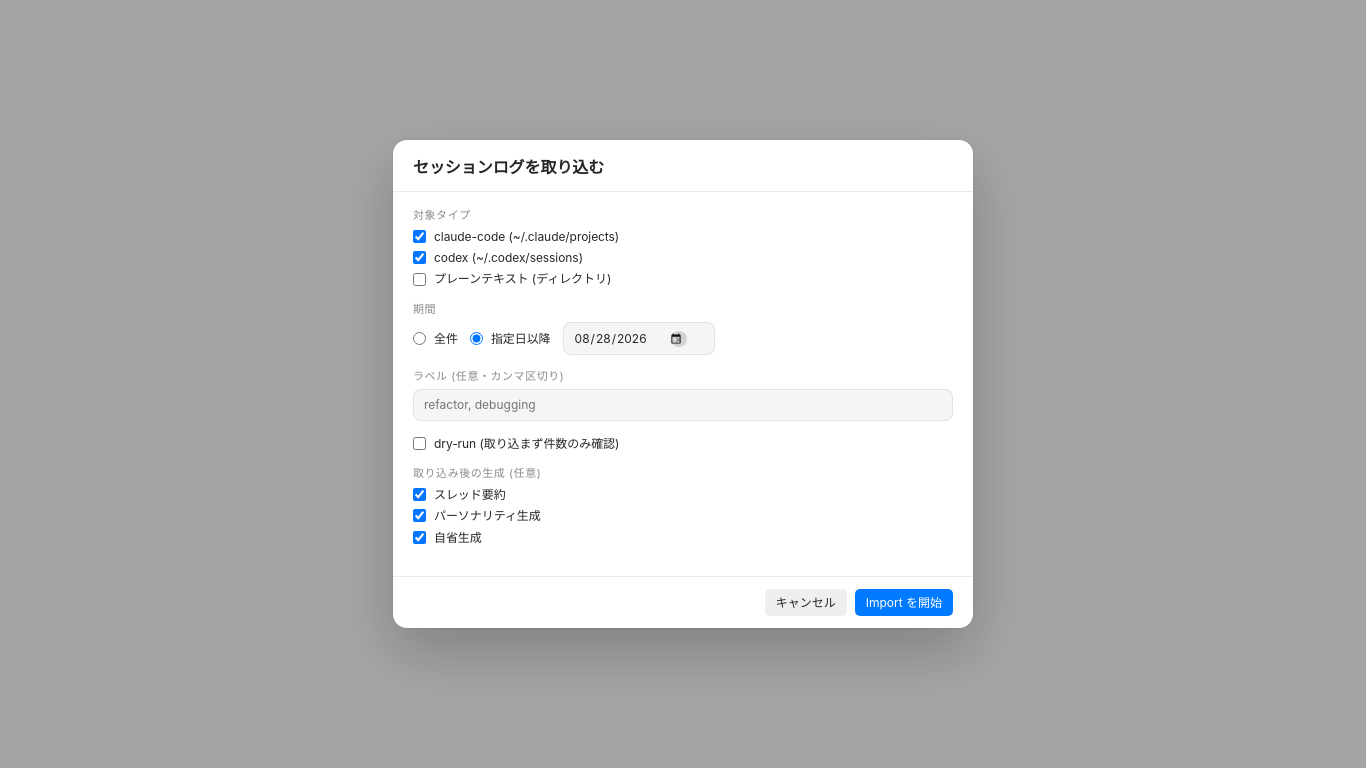
it: ImportDialog plain source › blocks submit with an empty root
Click the checkbox labelled "プレーンテキスト (ディレクトリ)" at (420, 279), box [413,273,426,286]
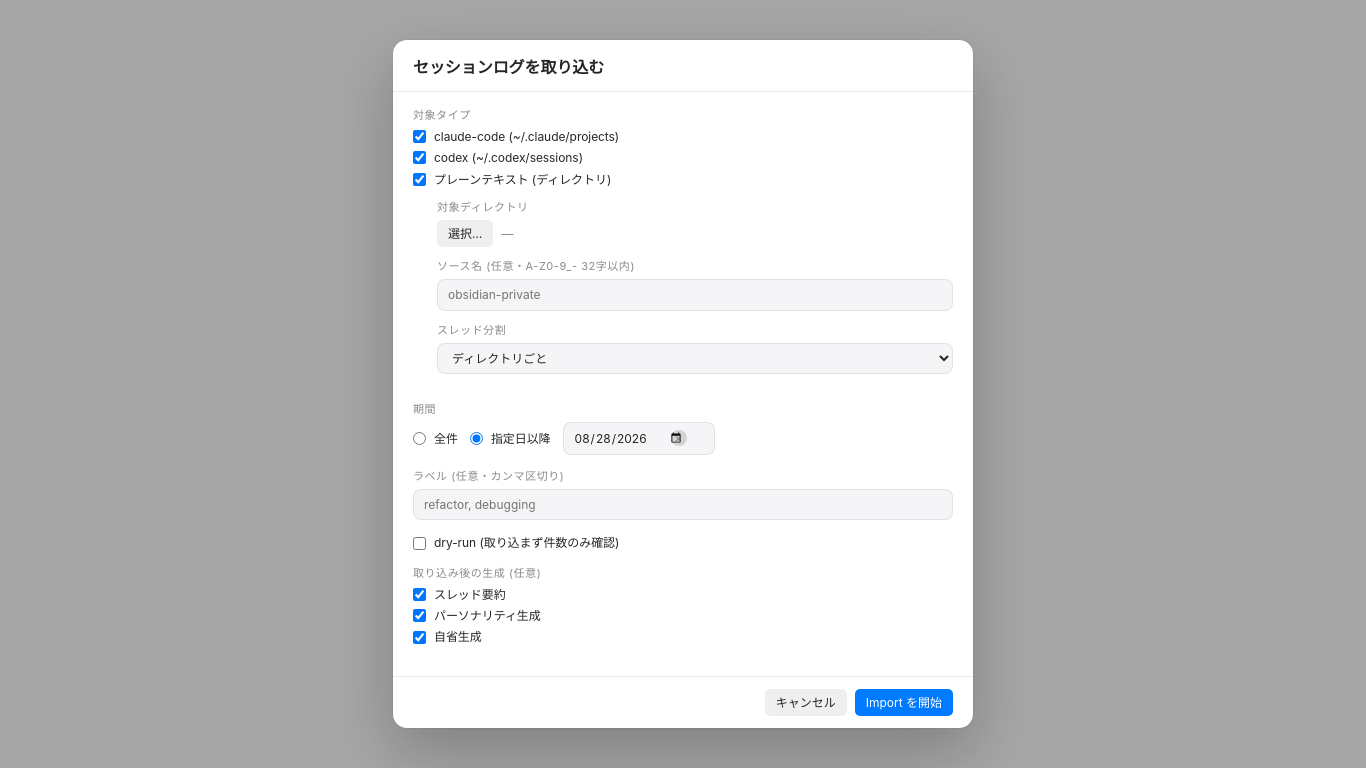
Click the button "Import を開始" at (904, 702), box [855,689,953,716]
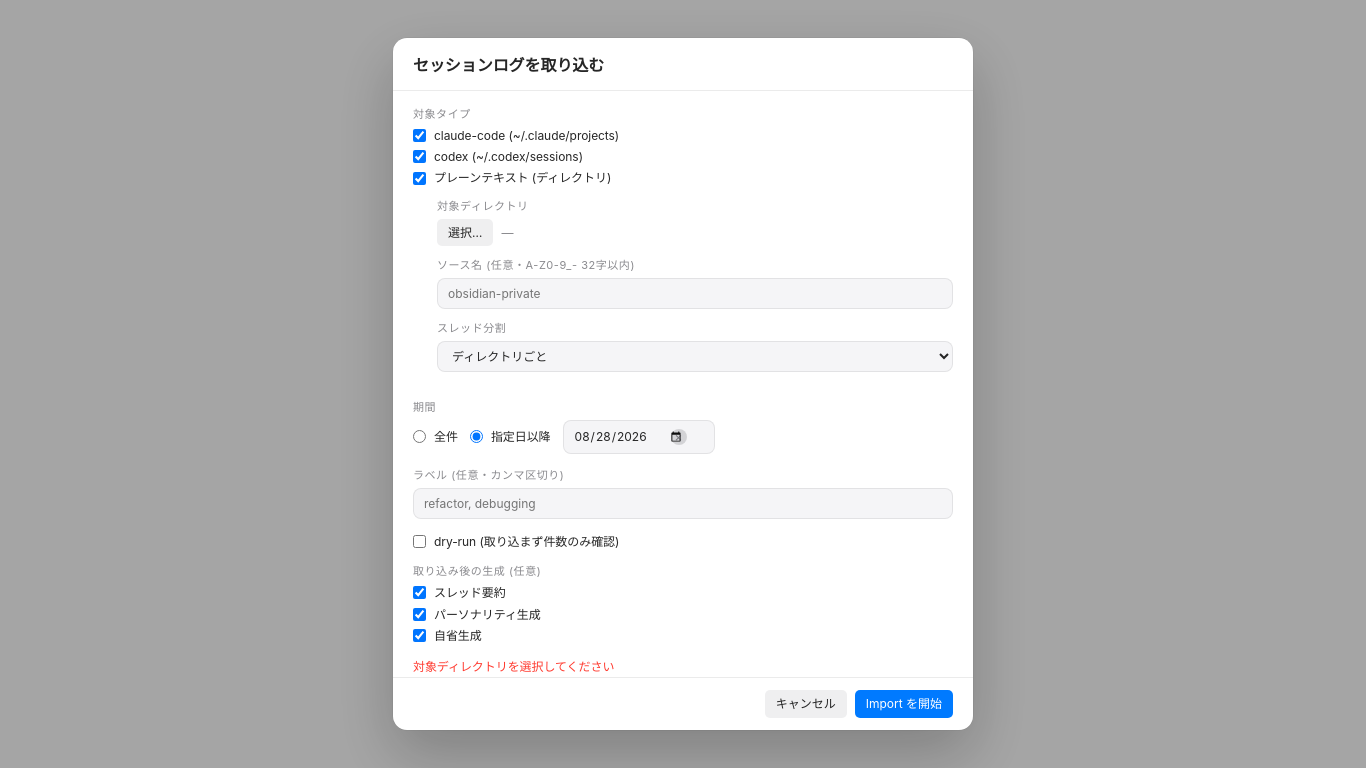
Expected: the text "対象ディレクトリを選択してください" is shown, [413,660,614,674]
